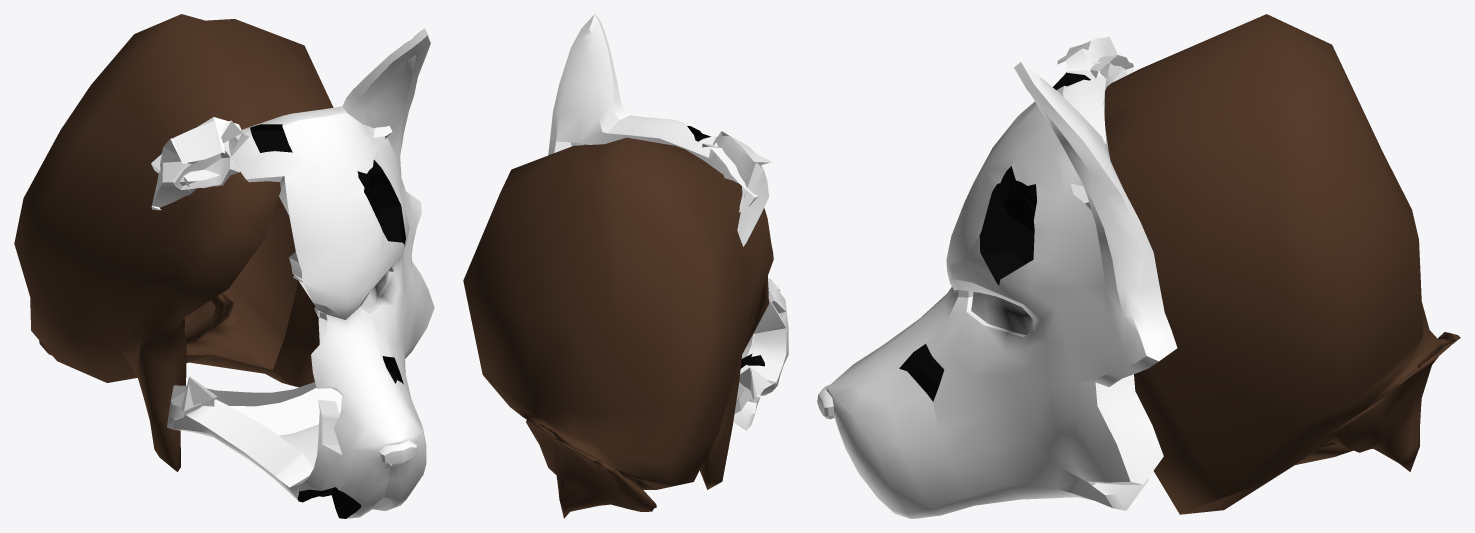
Rendered from MaskBrokenLv3.fbx.
3 renders of one model, left to right at view 1: azimuth 30°, elevation 25°; view 2: azimuth 150°, elevation 25°; view 3: azimuth 270°, elevation 25°, orthographic. The views are drawn at different scales.
Parts seen in each view (by area): view 1: HairMaskOff, WolfMask01.003; view 2: HairMaskOff, WolfMask01.003; view 3: HairMaskOff, WolfMask01.003.
Boxes of the visible parts, x1,y1,x2,y2 form: HairMaskOff: [14, 14, 333, 471]; WolfMask01.003: [151, 28, 434, 518]; HairMaskOff: [463, 137, 773, 518]; WolfMask01.003: [548, 14, 788, 430]; HairMaskOff: [1104, 14, 1460, 514]; WolfMask01.003: [817, 37, 1177, 518].
Bounding box in the file's own units: 0.6838 × 0.8866 × 0.9977.
